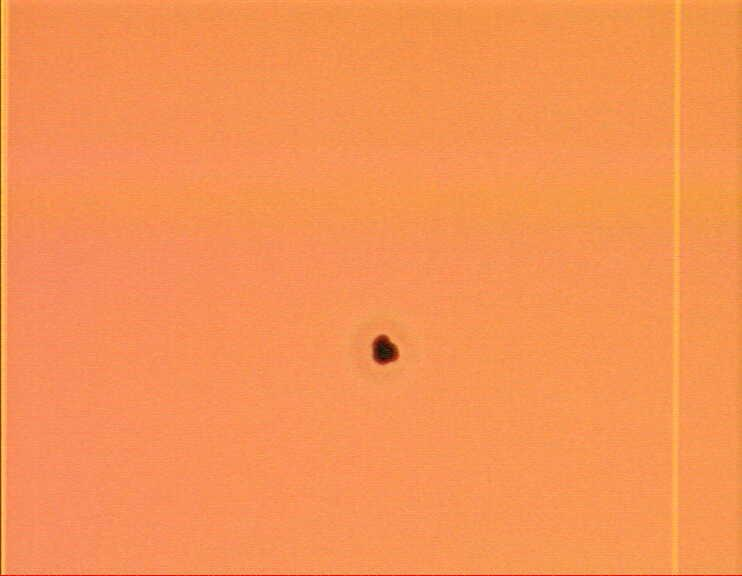PIQ PARTICLE: (365, 331, 405, 371)
